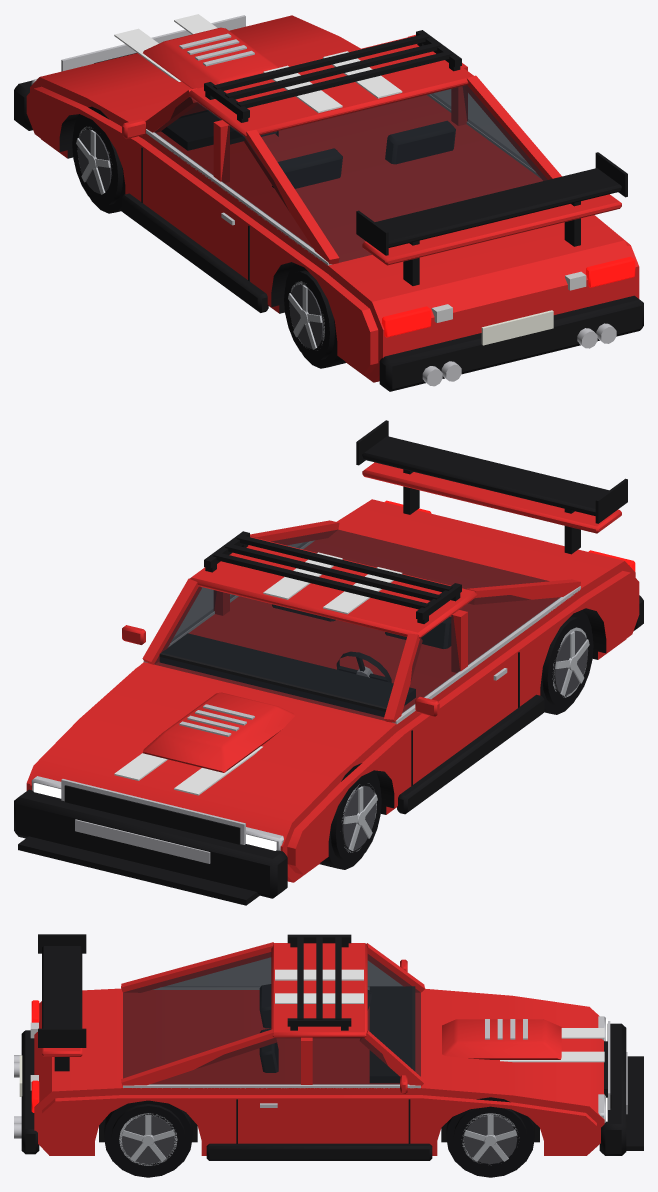
The model's file is sports.glb.
The picture shows the model from 3 angles, top to bottom: view 1: azimuth 30°, elevation 25°; view 2: azimuth 150°, elevation 25°; view 3: azimuth 270°, elevation 25°; orthographic projection. The views are drawn at different scales.
Parts seen in each view (by area): view 1: Body.002, Mod_spoiler_2.002, Mod_roof_1.002, Mod_spoiler_1.002, Mod_hood_1.002, Wheel_RL.002, Wheel_FL.002, Mod_skirts_1.002, Mod_livery_1.002, Mod_grille_2.002, Mod_exhaust_2.002, Mod_hood_2.002 (+2 smaller); view 2: Body.002, Mod_bumper_1.002, Mod_spoiler_2.002, Mod_roof_1.002, Mod_hood_1.002, Mod_spoiler_1.002, Mod_bumper_2.002, Wheel_RL.002, Wheel_FL.002, Mod_skirts_1.002, Mod_livery_1.002, Mod_grille_2.002 (+3 smaller); view 3: Body.002, Wheel_RR.002, Wheel_FR.002, Mod_spoiler_2.002, Mod_hood_1.002, Mod_skirts_1.002, Mod_roof_1.002, Mod_livery_1.002, Mod_bumper_1.002, Mod_bumper_2.002, Mod_spoiler_1.002, Mod_hood_2.002.
Part boxes in pixels (box(x1,y1,x2,y2)): Body.002: box(26, 15, 643, 391); Mod_spoiler_2.002: box(356, 152, 627, 285); Mod_roof_1.002: box(204, 30, 461, 122); Mod_spoiler_1.002: box(362, 194, 621, 285); Mod_hood_1.002: box(143, 27, 278, 88); Wheel_RL.002: box(284, 264, 345, 368); Wheel_FL.002: box(72, 106, 125, 213); Mod_skirts_1.002: box(121, 193, 268, 312); Mod_livery_1.002: box(114, 14, 402, 113); Mod_grille_2.002: box(61, 15, 245, 71); Mod_exhaust_2.002: box(422, 323, 616, 386); Mod_hood_2.002: box(179, 33, 254, 66); Body.002: box(26, 499, 643, 882); Mod_bumper_1.002: box(14, 789, 287, 898); Mod_spoiler_2.002: box(356, 420, 627, 553); Mod_roof_1.002: box(204, 531, 461, 623); Mod_hood_1.002: box(143, 692, 294, 772); Mod_spoiler_1.002: box(362, 462, 621, 554); Mod_bumper_2.002: box(18, 836, 259, 905); Wheel_RL.002: box(540, 610, 593, 714); Wheel_FL.002: box(319, 763, 381, 869); Mod_skirts_1.002: box(397, 694, 544, 814); Mod_livery_1.002: box(114, 552, 402, 795); Mod_grille_2.002: box(61, 779, 245, 844); Body.002: box(19, 942, 607, 1155); Wheel_RR.002: box(104, 1100, 192, 1177); Wheel_FR.002: box(446, 1097, 534, 1177); Mod_spoiler_2.002: box(38, 934, 86, 1070); Mod_hood_1.002: box(442, 1019, 561, 1059); Mod_skirts_1.002: box(206, 1143, 432, 1160); Mod_roof_1.002: box(287, 934, 351, 1030); Mod_livery_1.002: box(275, 969, 604, 1062); Mod_bumper_1.002: box(601, 1023, 627, 1155); Mod_bumper_2.002: box(626, 1056, 643, 1150); Mod_spoiler_1.002: box(42, 1048, 82, 1071); Mod_hood_2.002: box(485, 1019, 527, 1039).
Bounding box in the file's own units: 2.32 × 1.32 × 4.97.
